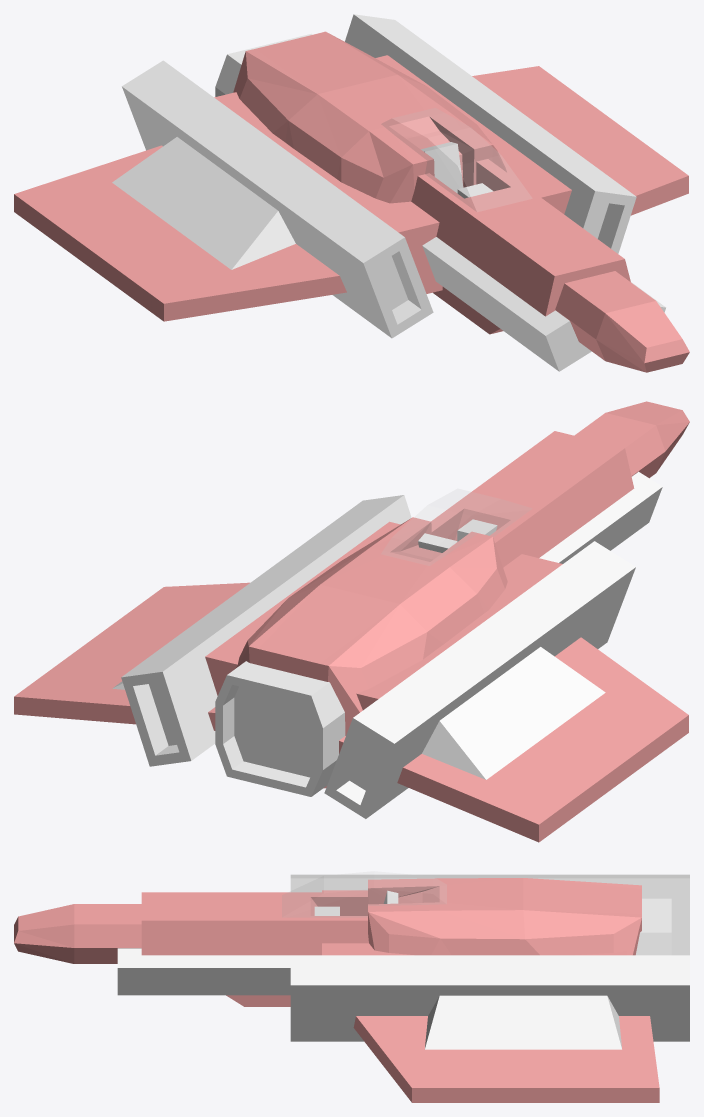
File: spaceship_vulcan.glb
3 renders of one model, top to bottom at view 1: azimuth 30°, elevation 25°; view 2: azimuth 150°, elevation 25°; view 3: azimuth 270°, elevation 25°, orthographic. The views are drawn at different scales.
Visible parts, largest first — view 1: spaceship_vulcan_0_, detail, glass; view 2: spaceship_vulcan_0_, detail, glass; view 3: spaceship_vulcan_0_, detail, glass.
Boxes of the visible parts, x1=… form: spaceship_vulcan_0_: x1=14, y1=31, x2=689, y2=372; detail: x1=112, y1=14, x2=665, y2=371; glass: x1=382, y1=108, x2=531, y2=211; spaceship_vulcan_0_: x1=14, y1=401, x2=689, y2=842; detail: x1=112, y1=471, x2=662, y2=818; glass: x1=381, y1=489, x2=531, y2=565; spaceship_vulcan_0_: x1=14, y1=878, x2=659, y2=1102; detail: x1=117, y1=874, x2=689, y2=1049; glass: x1=282, y1=871, x2=446, y2=916.
Size of the model in its own units: 17.59 by 5.2 by 23.73.
